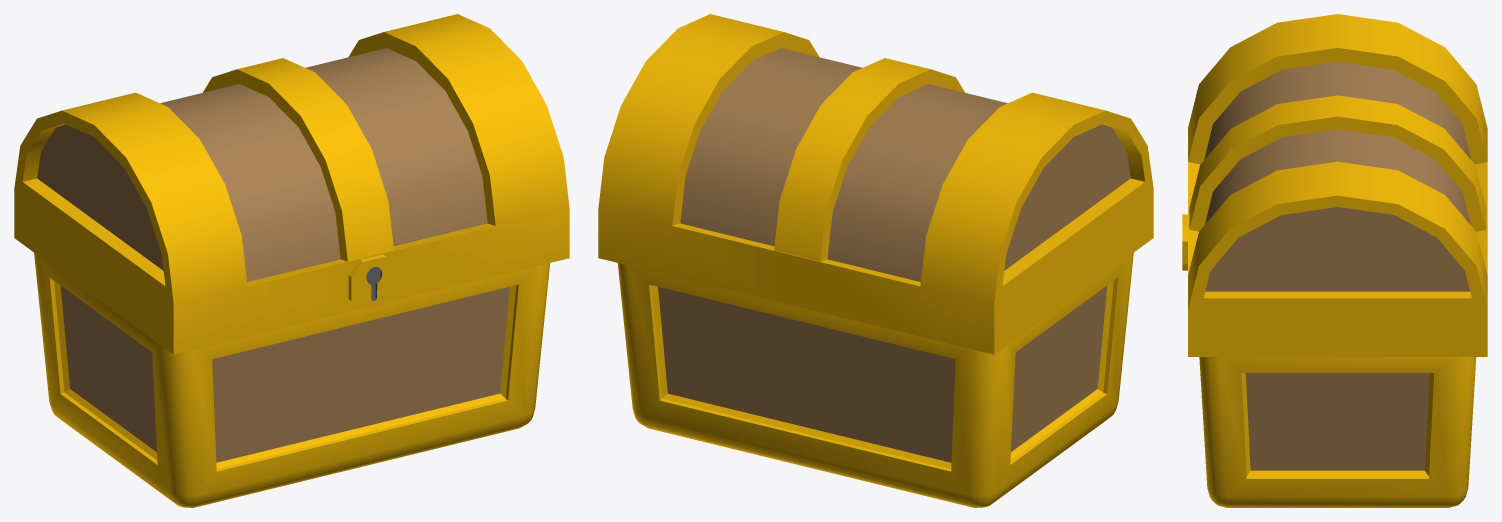
File: Chest_1.fbx
3 views of the same model, side by side, from view 1: azimuth 30°, elevation 25°; view 2: azimuth 150°, elevation 25°; view 3: azimuth 270°, elevation 25° (orthographic). The views are drawn at different scales.
Parts seen in each view (by area): view 1: Chest_1 Door, Chest_1; view 2: Chest_1 Door, Chest_1; view 3: Chest_1 Door, Chest_1.
Part boxes in pixels (x1,y1,x2,y2): Chest_1 Door: [14, 14, 569, 354]; Chest_1: [34, 253, 549, 507]; Chest_1 Door: [598, 14, 1153, 354]; Chest_1: [617, 252, 1133, 507]; Chest_1 Door: [1182, 14, 1487, 356]; Chest_1: [1199, 357, 1476, 507].
Size of the model in its own units: 0.295 by 0.2473 by 0.2094.
